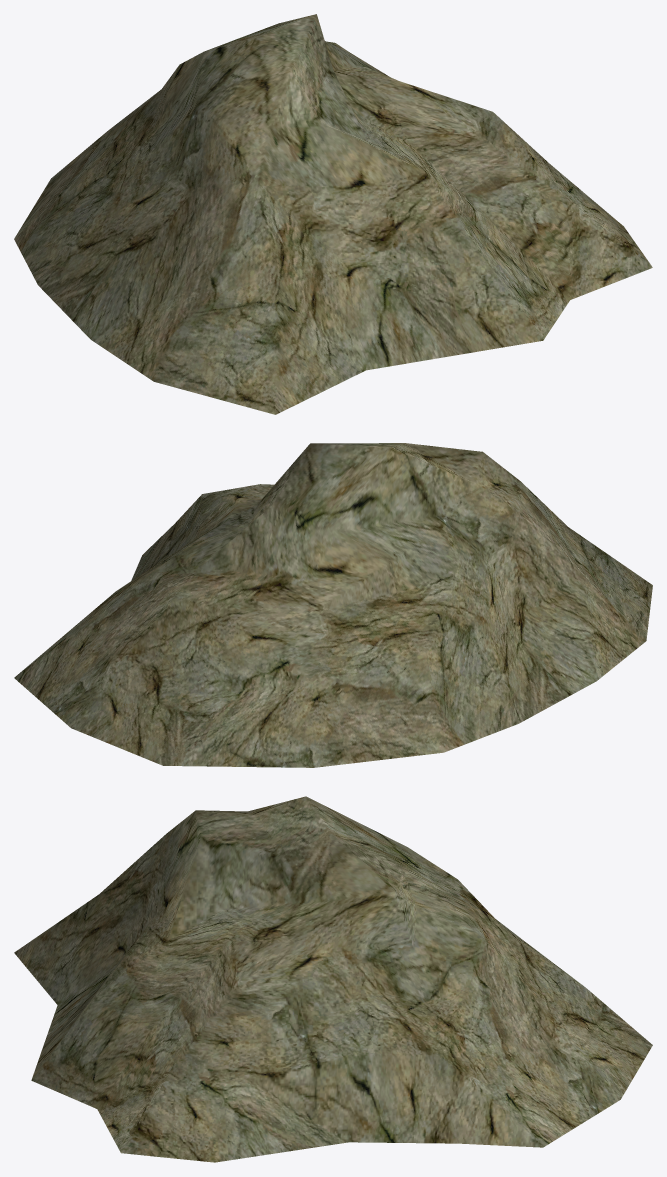
The model's file is rock_plain_white_a2_l0.fbx.
The picture shows the model from 3 angles, top to bottom: view 1: azimuth 30°, elevation 25°; view 2: azimuth 150°, elevation 25°; view 3: azimuth 270°, elevation 25°; orthographic projection. The views are drawn at different scales.
Visible parts, largest first — view 1: mesh_node; view 2: mesh_node; view 3: mesh_node.
Part boxes in pixels (x1,y1,x2,y2): mesh_node: (14,14,652,414); mesh_node: (14,443,652,767); mesh_node: (14,796,652,1162).
Size of the model in its own units: 7.37 by 3.15 by 8.35.
